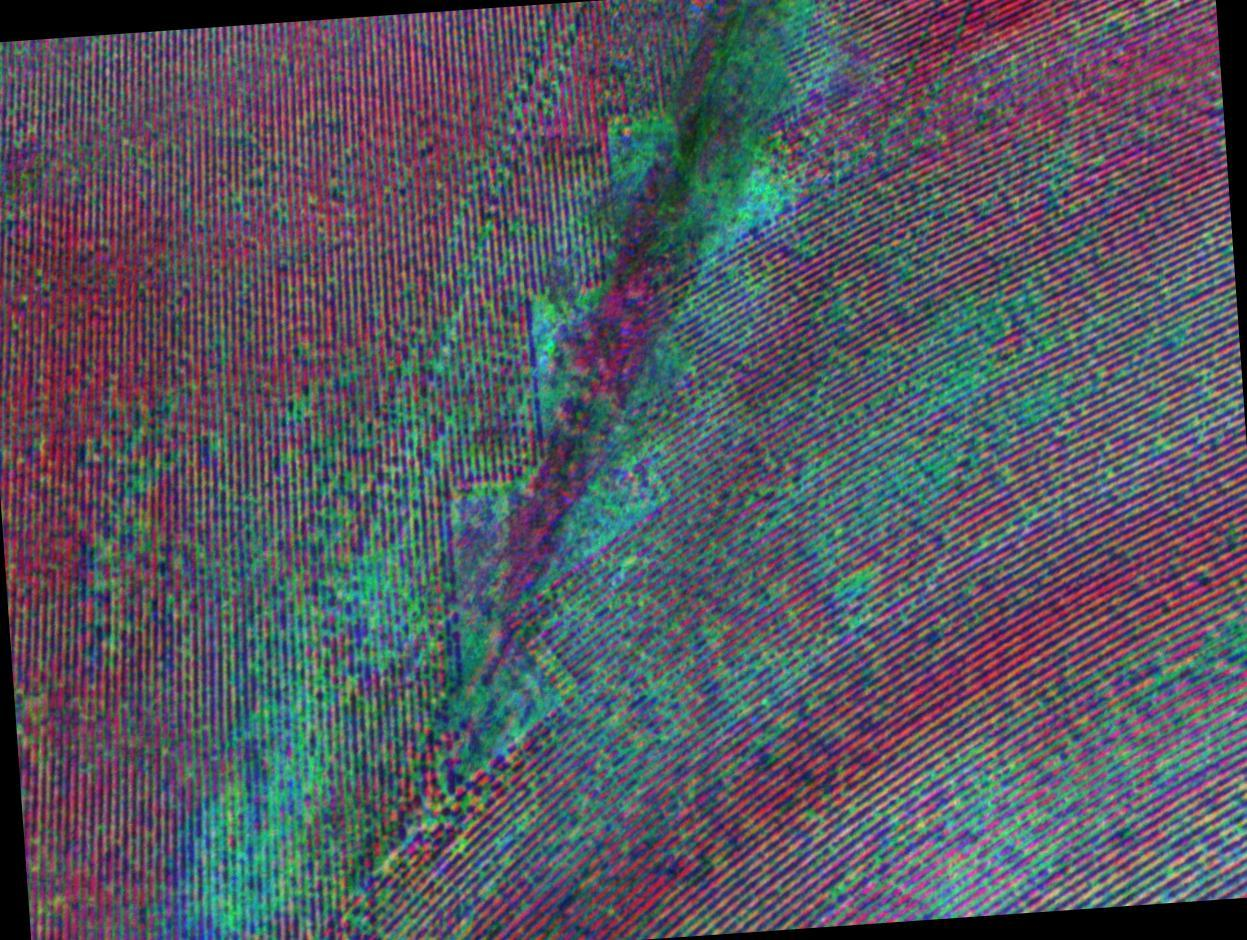dc: (198, 802, 290, 925), (891, 394, 967, 484), (350, 552, 412, 635), (724, 145, 789, 218), (581, 495, 621, 550)
